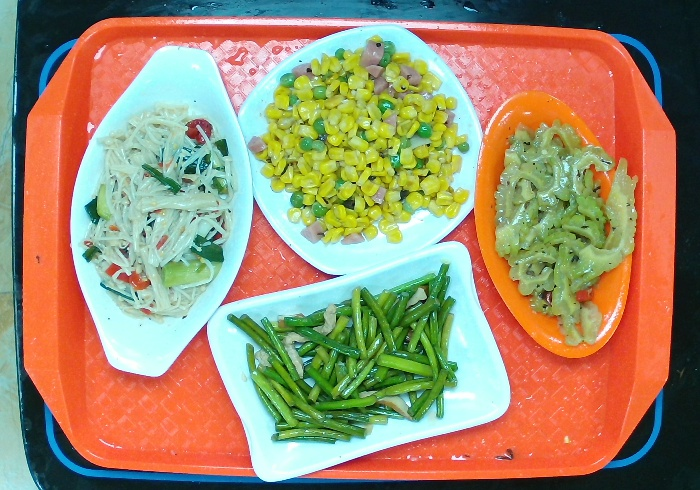RJxy-Ju_Huang_Tuo_Yuan: (472, 88, 633, 360)
RJxy-Si_Fang_Ao_Bian_Wan: (205, 238, 513, 483)
RJxy-Si_Fang_Die: (235, 22, 486, 278)
RJxy-Yu_Pan: (68, 43, 254, 379)
